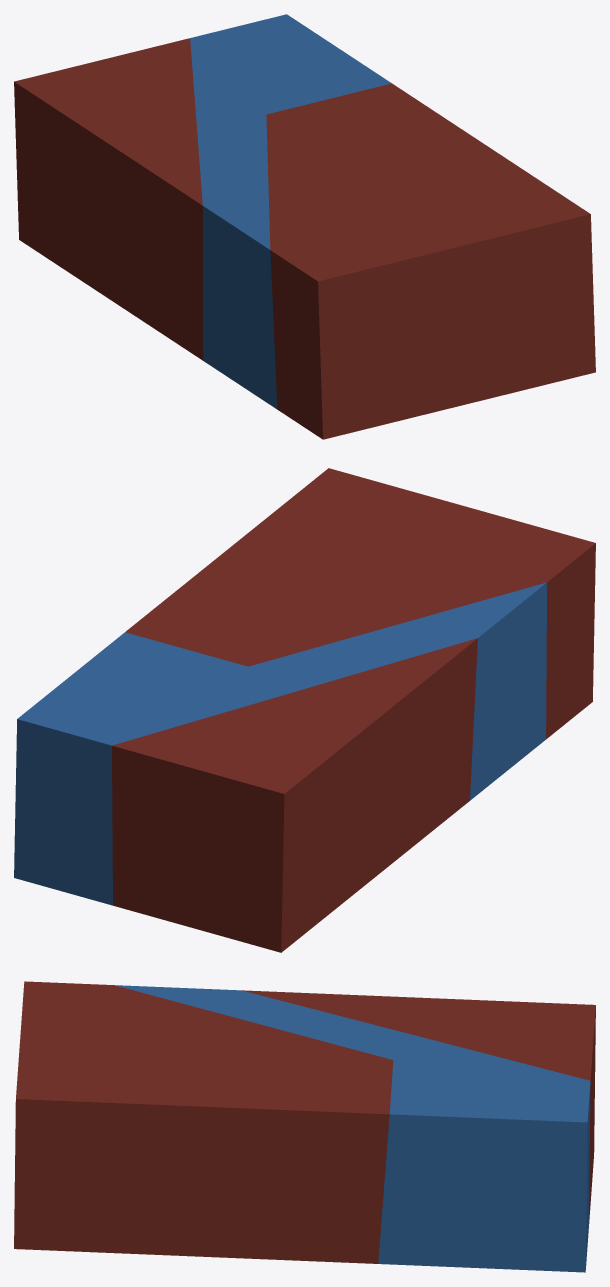
The model's file is SM_Prop_Snack_07.fbx.
The picture shows the model from 3 angles, top to bottom: view 1: azimuth 30°, elevation 25°; view 2: azimuth 150°, elevation 25°; view 3: azimuth 270°, elevation 25°; orthographic projection. The views are drawn at different scales.
Visible parts, largest first — view 1: SM_Prop_Snack_07; view 2: SM_Prop_Snack_07; view 3: SM_Prop_Snack_07.
Boxes of the visible parts, x1,y1,x2,y2 form: SM_Prop_Snack_07: (14,14,595,439); SM_Prop_Snack_07: (14,468,595,952); SM_Prop_Snack_07: (14,981,595,1272).
Bounding box in the file's own units: 7 × 4.59 × 13.77.
